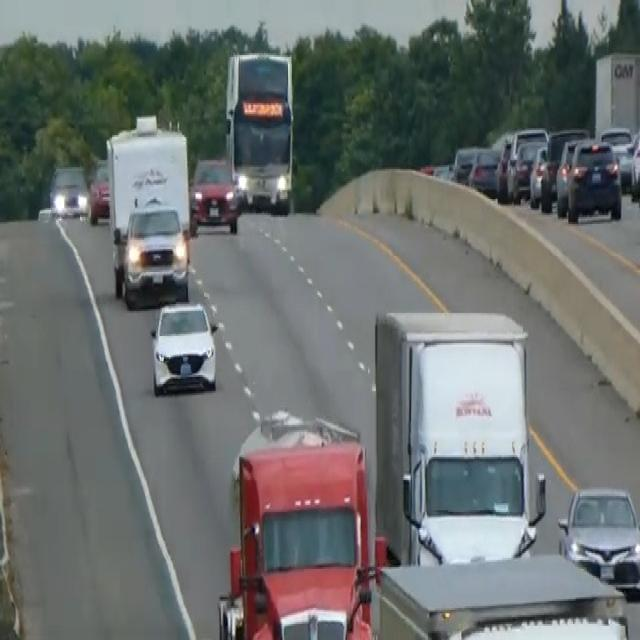bus: (223, 48, 295, 213)
car: (371, 550, 631, 638), (556, 482, 639, 597), (148, 295, 219, 398), (565, 135, 622, 224), (189, 153, 239, 233), (554, 135, 585, 215), (510, 137, 546, 201), (49, 162, 89, 218), (600, 122, 634, 186), (468, 144, 501, 196), (527, 142, 551, 208), (87, 165, 111, 224), (451, 142, 481, 183), (629, 126, 639, 203)
lorry: (373, 306, 546, 567), (215, 406, 384, 638)
truck: (104, 112, 193, 308)
